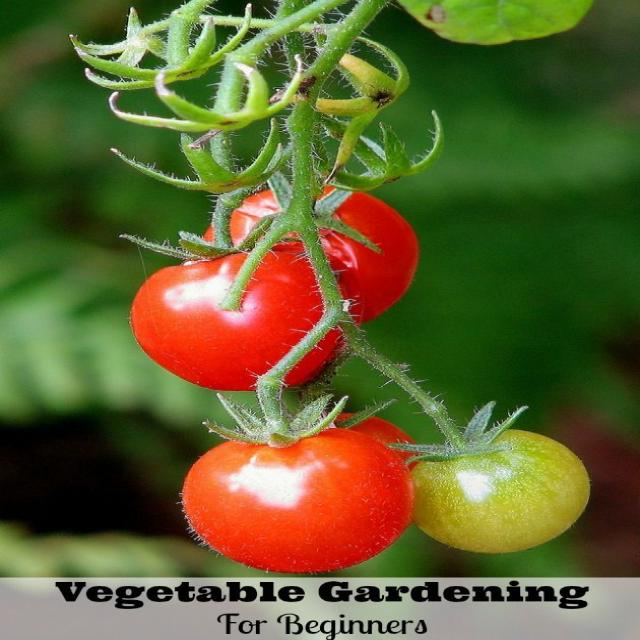level 3: (411, 426, 597, 550)
level 6: (188, 425, 417, 582), (135, 248, 346, 395), (224, 182, 415, 328)
